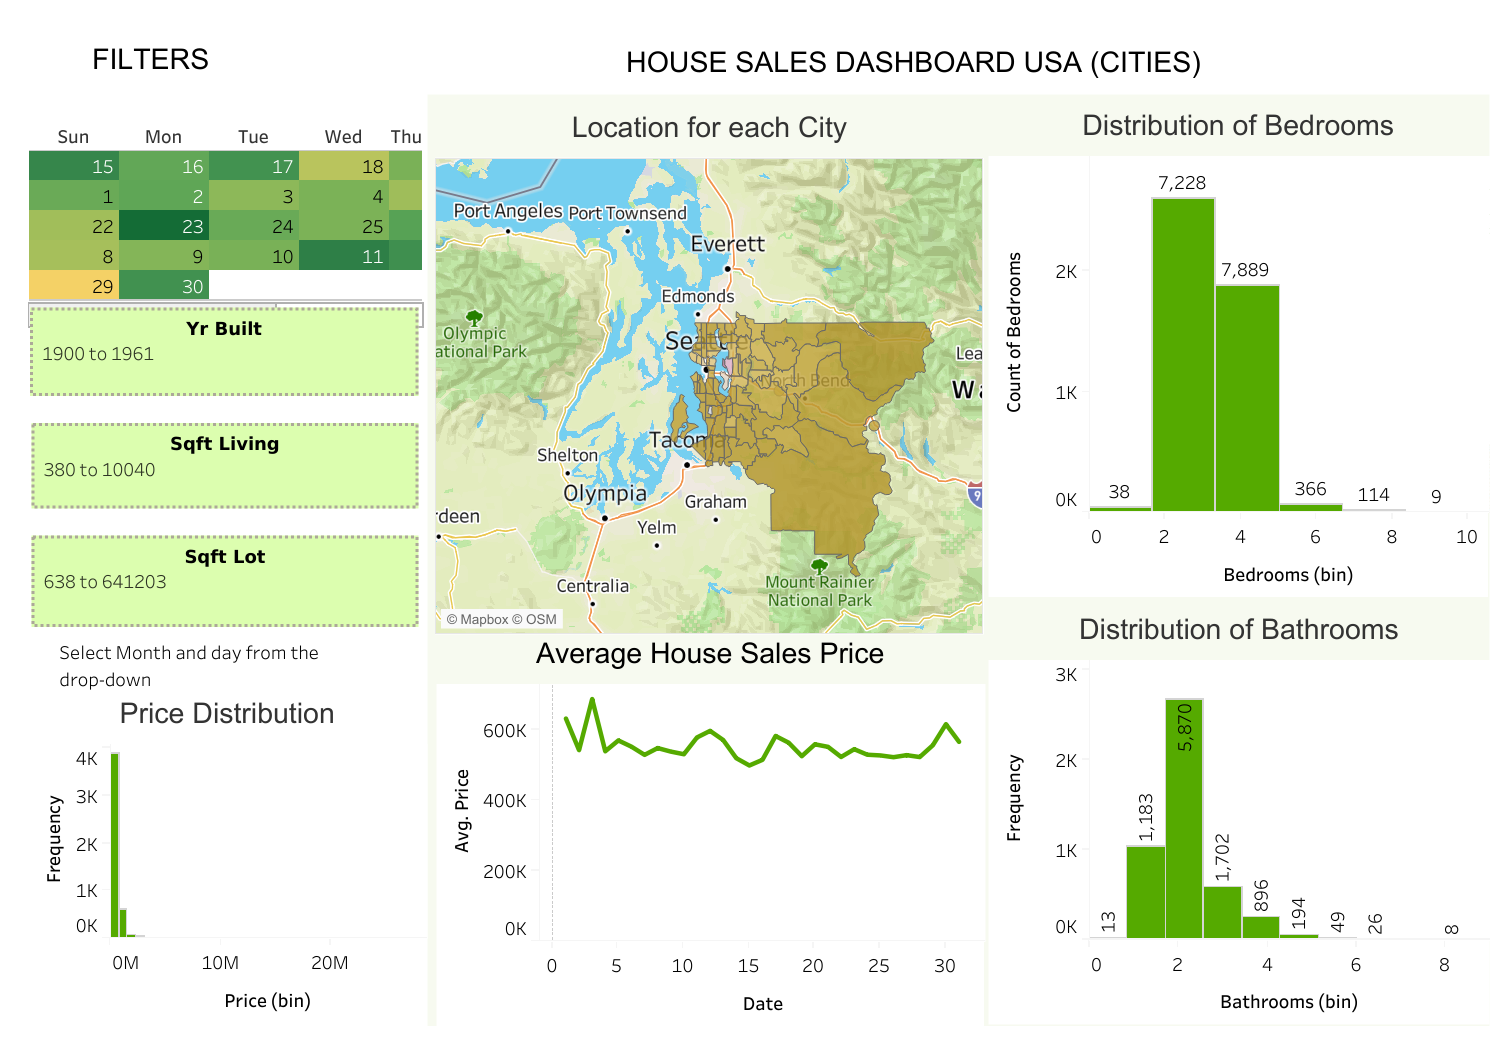

What the dashboard file says about the page in this screenshot:
{"tool":"tableau","page":{"name":"Dashboard 1","canvas":[1000,1000],"units":"permille","ordinal":0},"visuals":[{"type":"text","box":[303,23.2,611.6,70.9]},{"type":"text","box":[41.1,31.8,118.5,50.1]},{"type":"blank","box":[284.9,90.5,708.2,886.3]},{"type":"worksheet","title":"calender","mark":"Square","rows":["date"],"cols":["date"],"box":[19.3,91.7,262.5,229.8]},{"type":"blank","box":[20.6,92.9,233.8,278.7]},{"type":"worksheet","title":"Distribution of bedrooms","mark":"Automatic","rows":["bedrooms"],"cols":["Bedrooms (bin)"],"box":[659,94.1,332.9,474.3]},{"type":"worksheet","title":"Map","mark":"Automatic","box":[289.9,95.4,366,508.6]},{"type":"filter","title":"calender","param":"[federated.1uut8d104a3e7r19j6oyt1gsii2c].[none:yr_built:qk]","box":[19.9,293.4,259.4,84.4]},{"type":"filter","title":"calender","param":"[federated.1uut8d104a3e7r19j6oyt1gsii2c].[none:sqft_living:qk]","box":[20.6,402.2,258.7,81.9]},{"type":"filter","title":"calender","param":"[federated.1uut8d104a3e7r19j6oyt1gsii2c].[none:sqft_lot:qk]","box":[20.6,509.8,258.7,88]},{"type":"worksheet","title":"bathrooms distribution","mark":"Automatic","rows":["bathrooms"],"cols":["Bathrooms (bin)"],"box":[659,574.6,333.5,401]},{"type":"worksheet","title":"Line chart","mark":"Automatic","rows":["price"],"cols":["date"],"box":[290.5,596.6,365.3,380.2]},{"type":"text","box":[37.4,601.5,226.9,61.1]},{"type":"worksheet","title":"Price distribution","mark":"Automatic","rows":["price"],"cols":["Price (bin)"],"box":[19.3,654,265,320.3]}]}

Visuals, with their boxes on the dashboard's canvas, which has no fixed pixel size, in thousandths of its width and height (x1, y1, x2, y2). These are canvas units, not pixel positions in the 1499x1049 screenshot, which may show the page scaled, cropped or inside an application window:
text: 303/23/915/94
text: 41/32/160/82
blank: 285/90/993/977
"calender" worksheet (Square marks): 19/92/282/322
blank: 21/93/254/372
"Distribution of bedrooms" worksheet: 659/94/992/568
"Map" worksheet: 290/95/656/604
"calender" filter: 20/293/279/378
"calender" filter: 21/402/279/484
"calender" filter: 21/510/279/598
"bathrooms distribution" worksheet: 659/575/992/976
"Line chart" worksheet: 290/597/656/977
text: 37/602/264/663
"Price distribution" worksheet: 19/654/284/974
